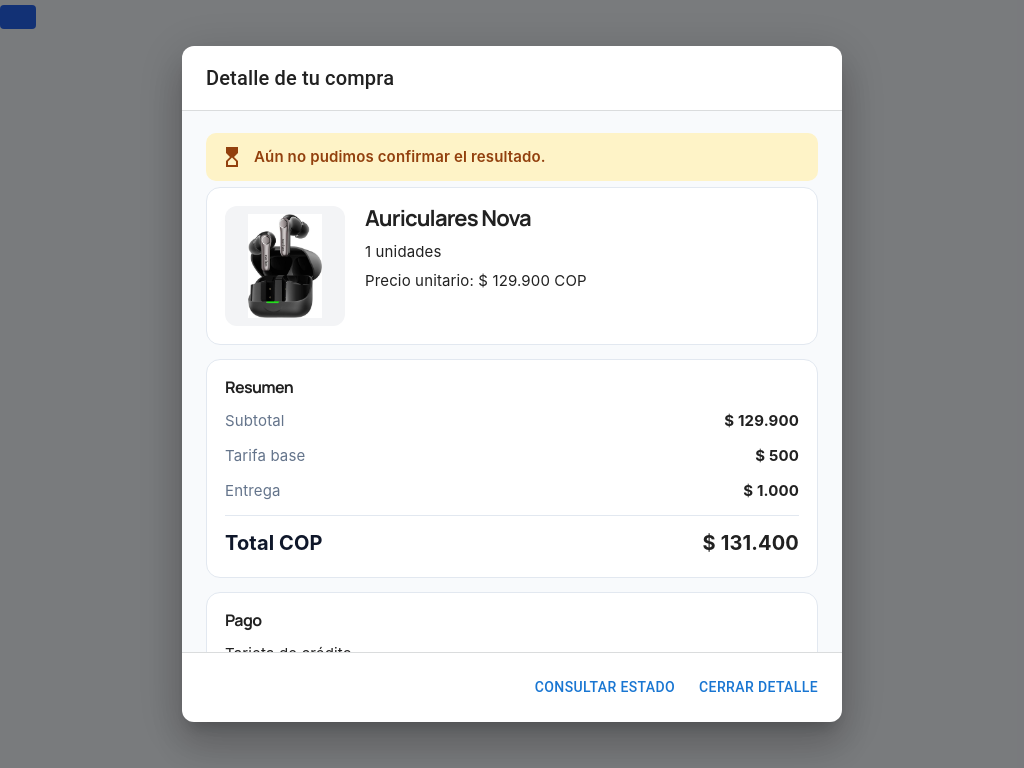
Scenario: consulta datos propios, muestra entrega e importes sin UUID ni tarjeta y sincroniza solo por clic
Later steps or results of the test are not shown.
Expected: the heading "Auriculares Nova" is shown, [365, 203, 531, 233]
Expected: the text "Precio unitario: $ 129.900 COP" is shown, [365, 271, 587, 290]
Step 1. Click the button "Consultar estado" → x=605, y=688, box [527, 669, 683, 706]
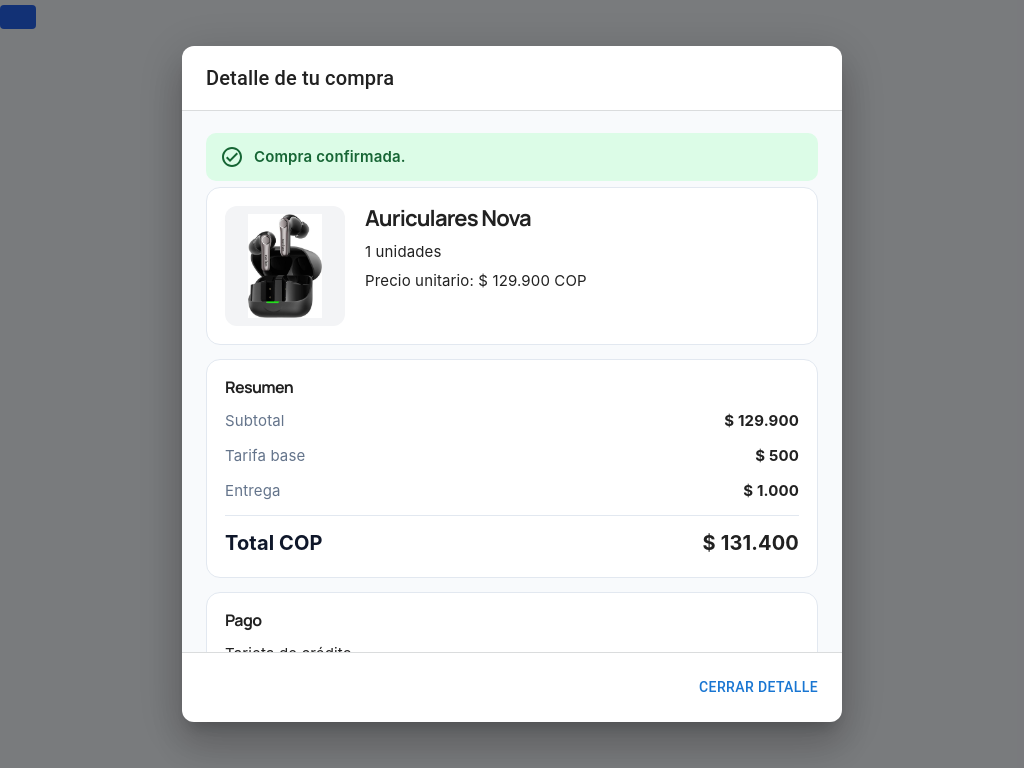
Expected: the text "Compra confirmada." is shown, [206, 133, 818, 181]
